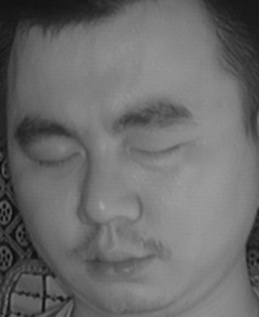blink: (34, 141, 84, 178), (134, 131, 185, 166)
mouth: (76, 238, 156, 291)
